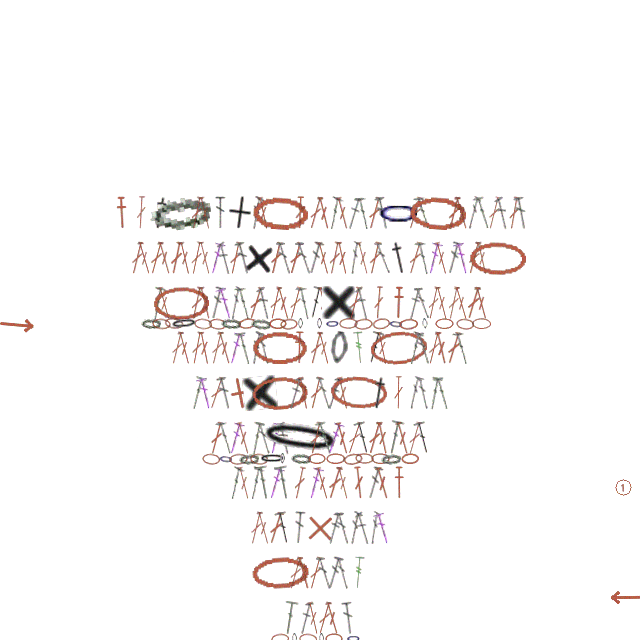chain: (257, 416, 343, 460), (148, 192, 213, 234), (329, 374, 389, 411), (369, 329, 429, 366), (408, 195, 467, 231), (251, 555, 309, 591), (251, 195, 309, 231), (251, 375, 308, 411), (469, 241, 526, 275), (153, 286, 209, 320), (252, 331, 308, 364), (376, 196, 422, 229), (329, 331, 349, 365), (170, 317, 198, 330), (259, 453, 286, 464), (343, 452, 363, 466), (164, 317, 184, 330), (238, 317, 257, 330), (372, 317, 391, 330), (239, 453, 259, 465), (381, 453, 401, 465), (251, 318, 271, 330), (229, 453, 248, 465), (152, 318, 171, 330), (208, 318, 227, 330), (354, 318, 373, 330), (399, 318, 418, 330), (291, 453, 311, 464), (141, 318, 161, 329), (221, 318, 241, 329), (202, 453, 220, 465), (250, 453, 268, 465), (194, 318, 212, 330), (280, 318, 298, 330), (456, 318, 474, 330), (326, 453, 345, 464), (355, 453, 374, 464), (371, 453, 390, 464), (339, 318, 358, 329), (435, 318, 454, 329), (472, 318, 491, 329), (308, 453, 326, 464), (401, 453, 419, 464), (269, 318, 287, 329), (218, 453, 234, 465), (388, 318, 404, 330), (325, 318, 340, 329), (271, 633, 289, 640), (299, 633, 317, 640), (325, 633, 343, 640), (346, 633, 361, 640), (422, 318, 428, 329), (280, 453, 285, 464), (298, 318, 303, 329), (317, 318, 322, 329), (292, 633, 297, 640), (319, 633, 324, 640)
double: (324, 421, 345, 455), (344, 421, 365, 455), (206, 376, 227, 410), (215, 420, 235, 455), (314, 420, 334, 455), (353, 420, 373, 455), (385, 420, 405, 455), (413, 420, 433, 455), (187, 375, 207, 410), (365, 330, 385, 365), (306, 285, 326, 320), (413, 195, 433, 230), (472, 195, 492, 230), (266, 511, 286, 545), (325, 466, 345, 500), (405, 331, 425, 365), (444, 331, 464, 365), (215, 286, 235, 320), (246, 286, 266, 320), (405, 241, 425, 275), (405, 196, 425, 230), (274, 510, 293, 545), (254, 465, 273, 500), (274, 465, 293, 500), (315, 601, 334, 635), (323, 601, 342, 635), (286, 556, 305, 590), (294, 556, 313, 590), (306, 556, 325, 590), (325, 556, 344, 590), (254, 511, 273, 545), (373, 511, 392, 545), (226, 466, 245, 500), (246, 466, 265, 500), (266, 466, 285, 500), (313, 466, 332, 500), (365, 466, 384, 500), (373, 466, 392, 500), (207, 421, 226, 455), (226, 421, 245, 455), (234, 421, 253, 455), (333, 421, 352, 455), (365, 421, 384, 455), (393, 421, 412, 455), (405, 421, 424, 455), (432, 376, 451, 410), (175, 331, 194, 365), (215, 331, 234, 365), (226, 331, 245, 365), (234, 331, 253, 365), (452, 331, 471, 365), (155, 286, 174, 320), (234, 286, 253, 320), (274, 286, 293, 320), (286, 286, 305, 320), (452, 286, 471, 320), (464, 286, 483, 320), (472, 286, 491, 320), (135, 241, 154, 275), (147, 241, 166, 275), (155, 241, 174, 275), (207, 241, 226, 275), (234, 241, 253, 275), (286, 241, 305, 275), (306, 241, 325, 275), (314, 241, 333, 275), (432, 241, 451, 275), (306, 196, 325, 230), (325, 196, 344, 230), (333, 196, 352, 230), (365, 196, 384, 230), (452, 196, 471, 230), (281, 601, 299, 635), (247, 511, 265, 545), (354, 511, 372, 545), (235, 466, 253, 500), (306, 466, 324, 500), (334, 466, 352, 500), (247, 421, 265, 455), (307, 421, 325, 455), (196, 376, 214, 410), (216, 376, 234, 410), (307, 376, 325, 410), (334, 376, 352, 410), (425, 376, 443, 410), (168, 331, 186, 365), (208, 331, 226, 365), (307, 331, 325, 365), (315, 331, 333, 365), (425, 331, 443, 365), (148, 286, 166, 320), (196, 286, 214, 320), (208, 286, 226, 320), (295, 286, 313, 320), (315, 286, 333, 320), (346, 286, 364, 320), (433, 286, 451, 320), (128, 241, 146, 275), (176, 241, 194, 275), (196, 241, 214, 275), (267, 241, 285, 275), (354, 241, 372, 275), (366, 241, 384, 275), (414, 241, 432, 275), (425, 241, 443, 275), (445, 241, 463, 275), (453, 241, 471, 275), (465, 241, 483, 275), (473, 241, 491, 275), (196, 196, 214, 230), (315, 196, 333, 230), (354, 196, 372, 230), (374, 196, 392, 230), (445, 196, 463, 230), (485, 196, 503, 230), (374, 241, 392, 274), (305, 601, 322, 635), (326, 511, 343, 545), (346, 511, 363, 545), (291, 466, 308, 500), (267, 421, 284, 455), (374, 421, 391, 455), (287, 376, 304, 410), (295, 376, 312, 410), (326, 376, 343, 410), (196, 331, 213, 365), (374, 331, 391, 365), (433, 331, 450, 365), (188, 286, 205, 320), (267, 286, 284, 320), (354, 286, 371, 320), (425, 286, 442, 320), (445, 286, 462, 320), (168, 241, 185, 275), (188, 241, 205, 275), (216, 241, 233, 275), (227, 241, 244, 275), (295, 241, 312, 275), (326, 241, 343, 275), (334, 241, 351, 275), (188, 196, 205, 230), (255, 196, 272, 230), (346, 196, 363, 230), (513, 196, 530, 230), (414, 286, 431, 319), (465, 196, 482, 229), (298, 601, 314, 635), (316, 556, 332, 590), (276, 421, 292, 455), (189, 331, 205, 365), (248, 331, 264, 365), (415, 331, 431, 365), (256, 286, 272, 320), (407, 286, 423, 320), (276, 241, 292, 275), (248, 196, 264, 230), (494, 196, 510, 230), (506, 196, 522, 230), (256, 421, 272, 454), (316, 376, 332, 409), (341, 601, 356, 635), (335, 511, 350, 545), (335, 556, 350, 589), (407, 376, 422, 409), (256, 331, 271, 364), (228, 286, 243, 319), (352, 466, 366, 499), (416, 376, 430, 409), (293, 511, 306, 544), (368, 511, 381, 544), (372, 286, 385, 319), (348, 241, 361, 274), (135, 196, 147, 229), (294, 196, 306, 229), (393, 376, 404, 409), (215, 196, 226, 229)
half_double: (148, 195, 173, 231), (367, 375, 391, 411), (387, 240, 411, 275), (293, 331, 306, 364), (392, 286, 405, 319), (115, 196, 128, 229), (393, 466, 405, 499)
noise: (0, 316, 36, 333), (608, 590, 640, 604), (613, 477, 633, 497)
single: (221, 374, 259, 412), (242, 375, 278, 411), (243, 240, 276, 276), (303, 511, 337, 545), (322, 286, 355, 319), (225, 195, 254, 230)
treble: (352, 331, 366, 364), (352, 556, 365, 589)
